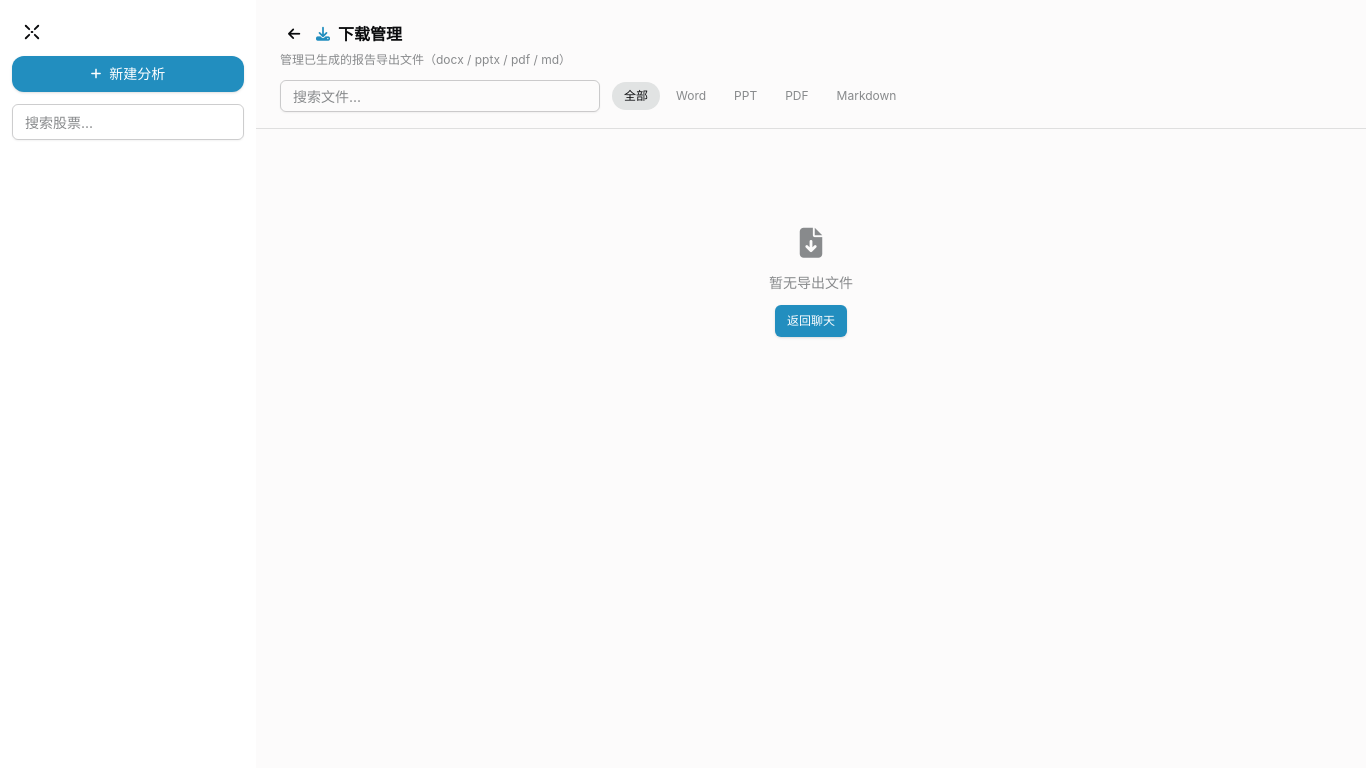
Test: 下载中心页面（add-download-center Task 2） › 空列表显示空态，点击「返回聊天」回会话页
The image size is (1366, 768).
Expected: the element with test id "downloads-empty" shows "暂无导出文件", [769,274,853,291]
Click the button "返回聊天". click: [811, 321]
box: [775,305,847,337]
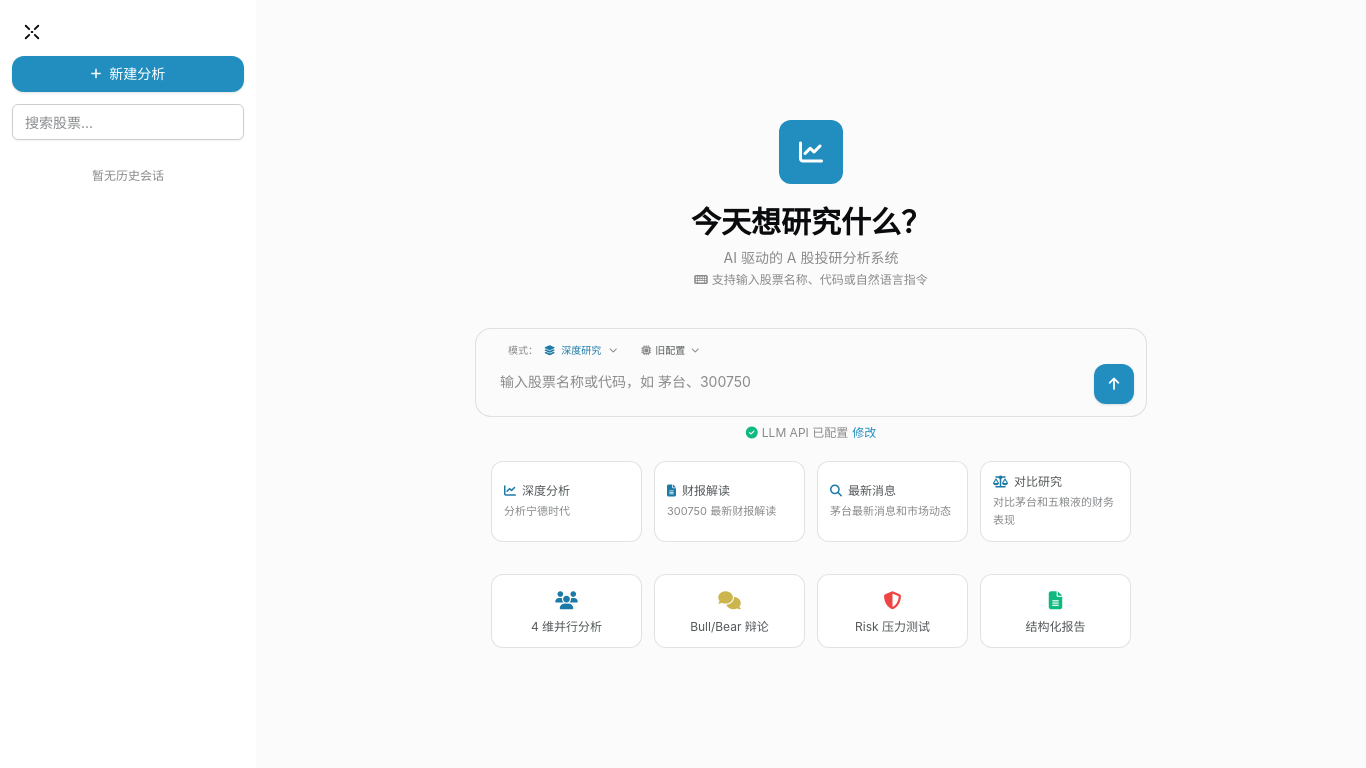
Now the heading "今天想研究什么？" is shown, box [691,204,931,240]
